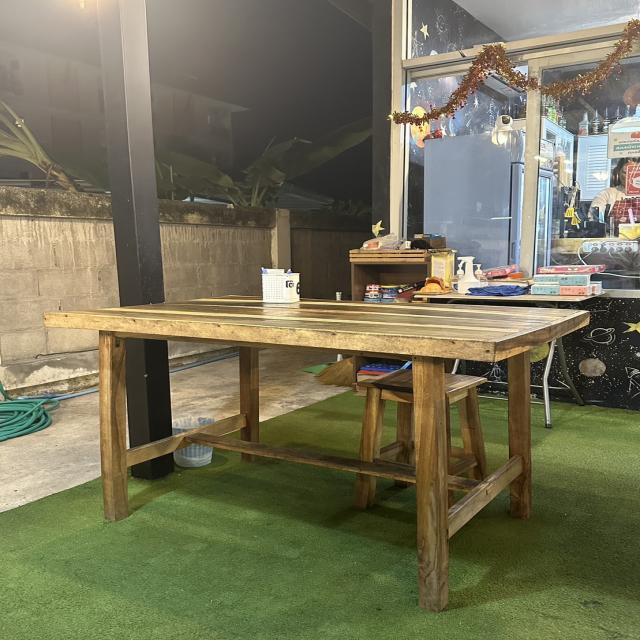table: (31, 268, 588, 412)
